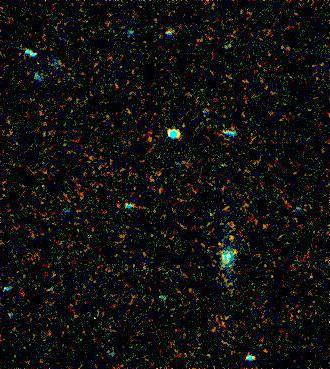star: (215, 221, 245, 251)
